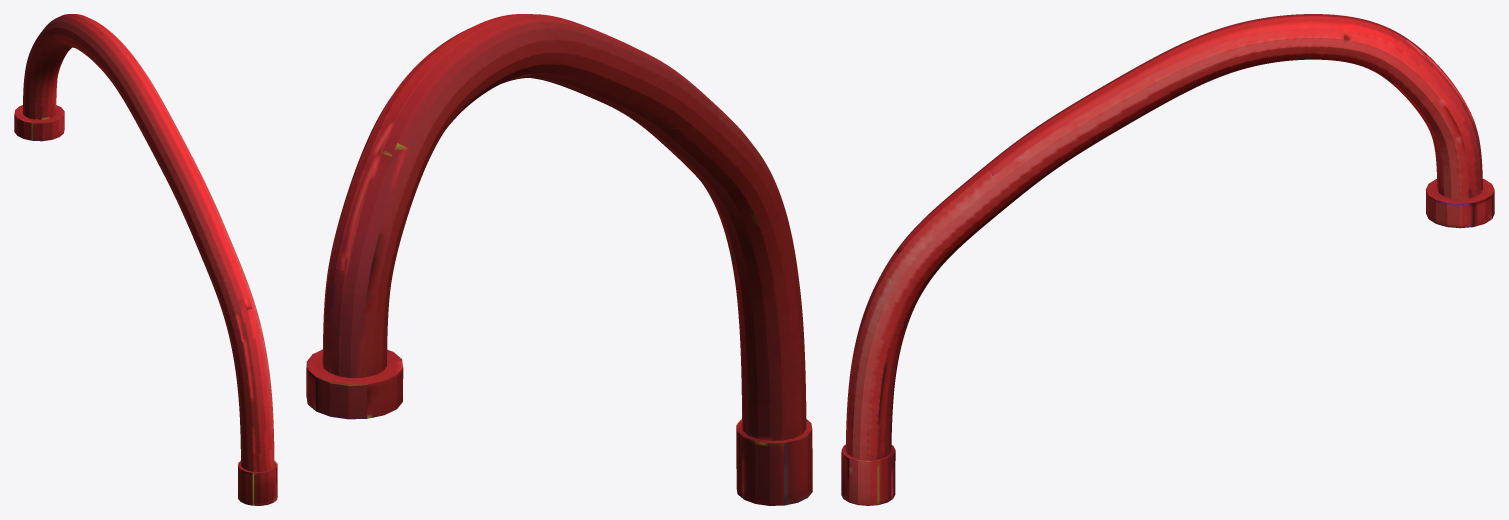
File: bomb_wire_r.gltf
3 renders of one model, left to right at view 1: azimuth 30°, elevation 25°; view 2: azimuth 150°, elevation 25°; view 3: azimuth 270°, elevation 25°, orthographic. The views are drawn at different scales.
Visible parts, largest first — view 1: wireR; view 2: wireR; view 3: wireR.
Boxes of the visible parts, bbox=[...] form: wireR: bbox=[14, 14, 277, 505]; wireR: bbox=[306, 14, 812, 505]; wireR: bbox=[841, 14, 1494, 505].
Size of the model in its own units: 0.7521 by 5.77 by 7.15.
1 material, 1 textured.
